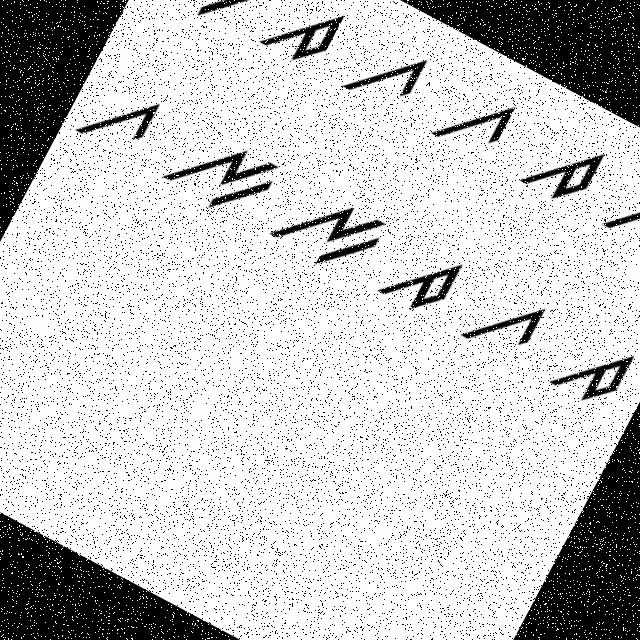ga: (331, 21, 434, 122), (456, 276, 556, 376), (70, 67, 170, 166), (424, 74, 524, 170)
nga: (156, 111, 288, 231), (264, 169, 396, 289), (594, 155, 639, 280), (148, 0, 277, 41)
ta: (366, 225, 472, 331), (510, 112, 615, 218), (544, 322, 639, 420), (256, 0, 349, 77)
